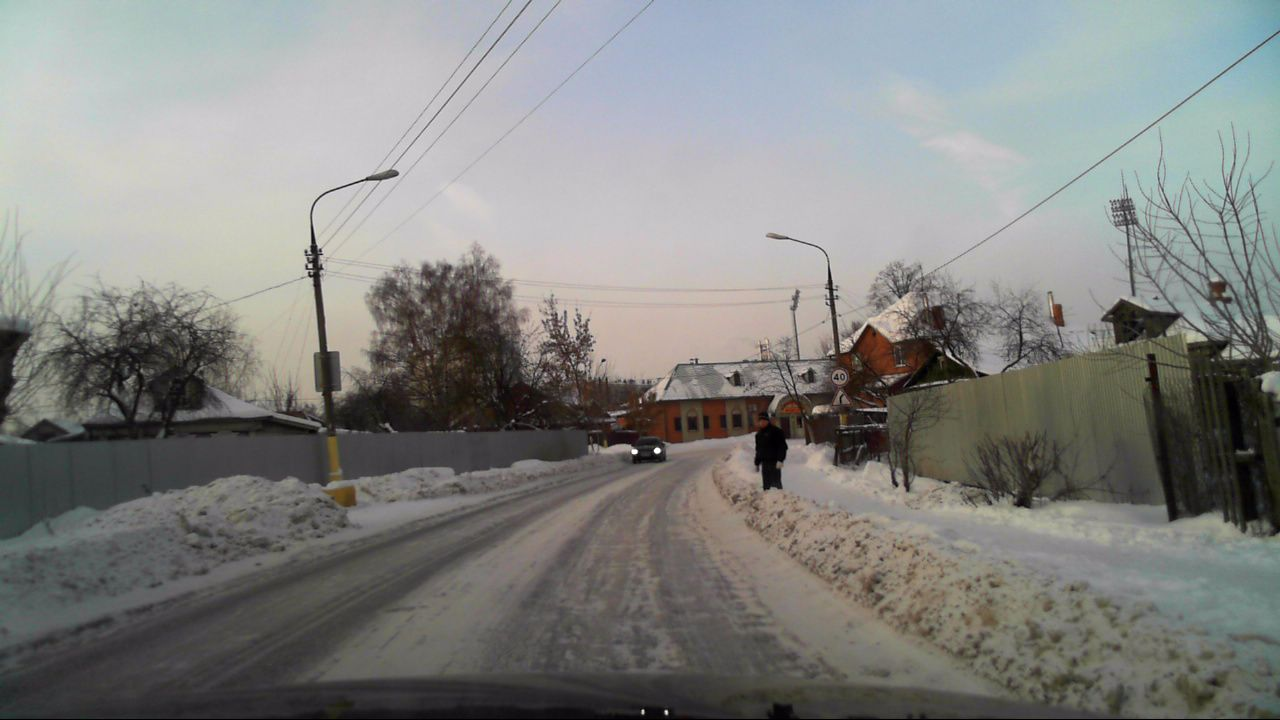speed_warning_40: (829, 366, 848, 387)
